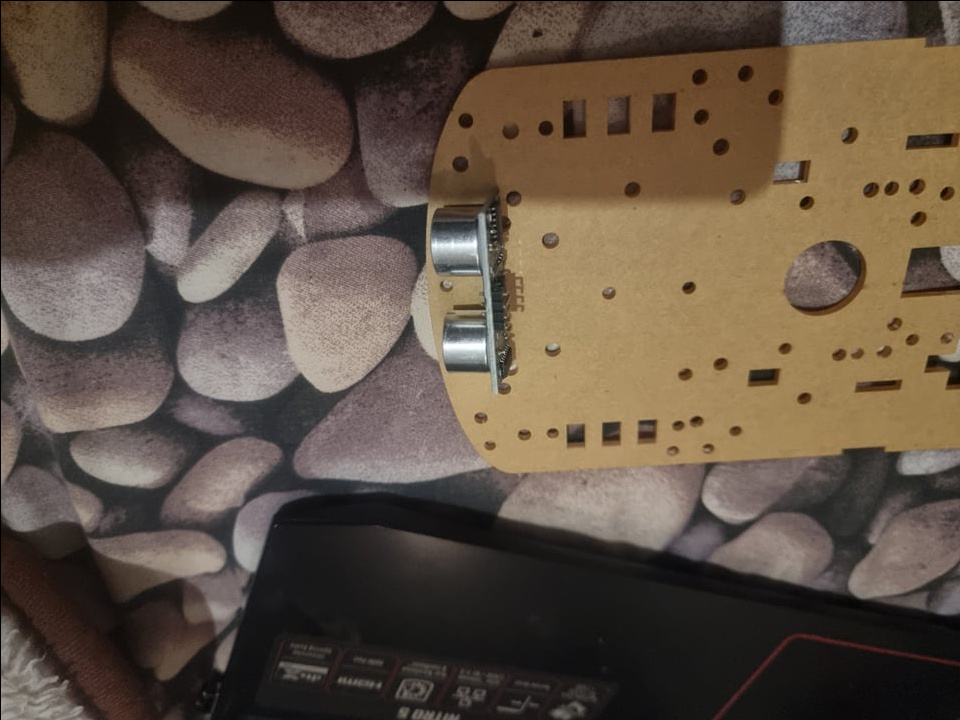SENSOR: (429, 187, 515, 391)
